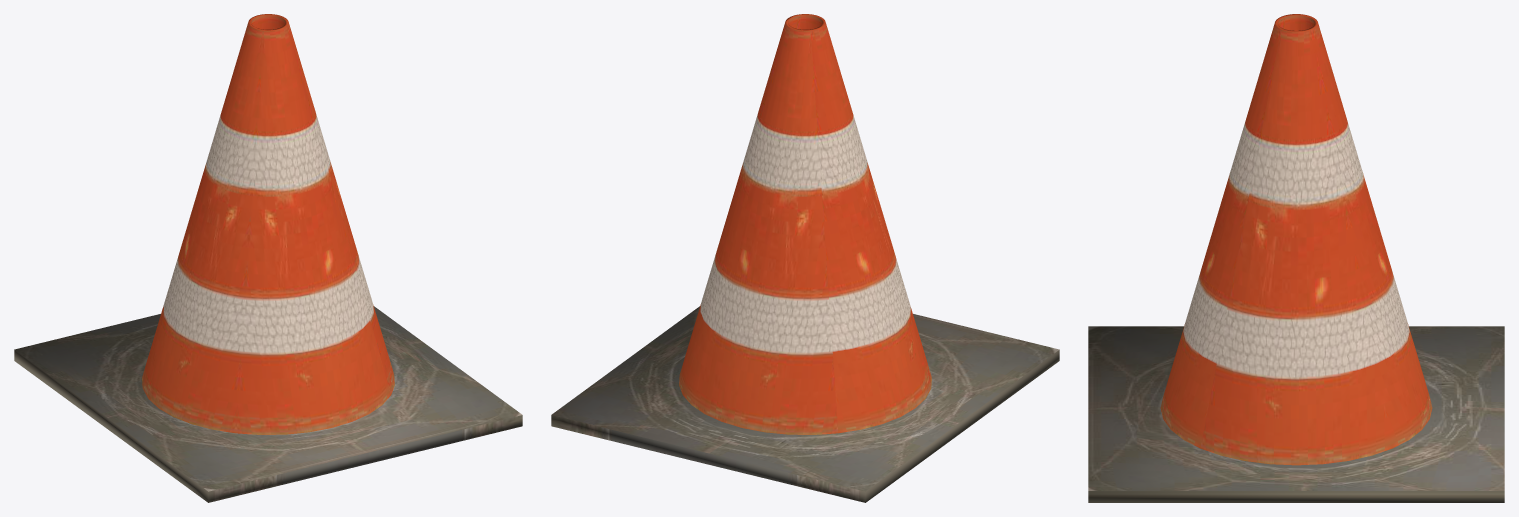
3 views of the same model, side by side, from view 1: azimuth 30°, elevation 25°; view 2: azimuth 150°, elevation 25°; view 3: azimuth 270°, elevation 25° (orthographic). The views are drawn at different scales.
Parts seen in each view (by area): view 1: Mesh_0; view 2: Mesh_0; view 3: Mesh_0.
Part boxes in pixels (bbox=[...]): Mesh_0: bbox=[14, 14, 522, 502]; Mesh_0: bbox=[551, 14, 1059, 502]; Mesh_0: bbox=[1088, 14, 1504, 502].
Bounding box in the file's own units: 2.86 × 3.23 × 3.06.
1 material, 1 textured.
